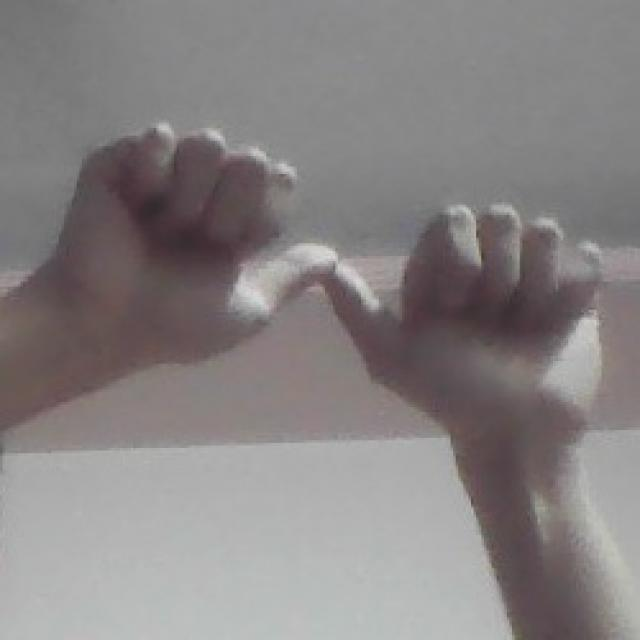Alphabet-A: (39, 120, 610, 436)
